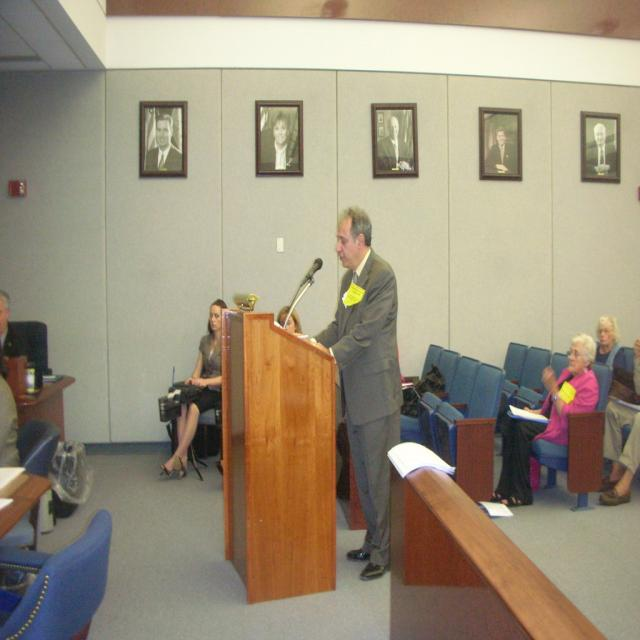chair: (1, 508, 112, 640)
desk: (15, 371, 77, 439)
person: (306, 203, 402, 581), (492, 334, 600, 507), (158, 299, 226, 480), (599, 411, 640, 506)
